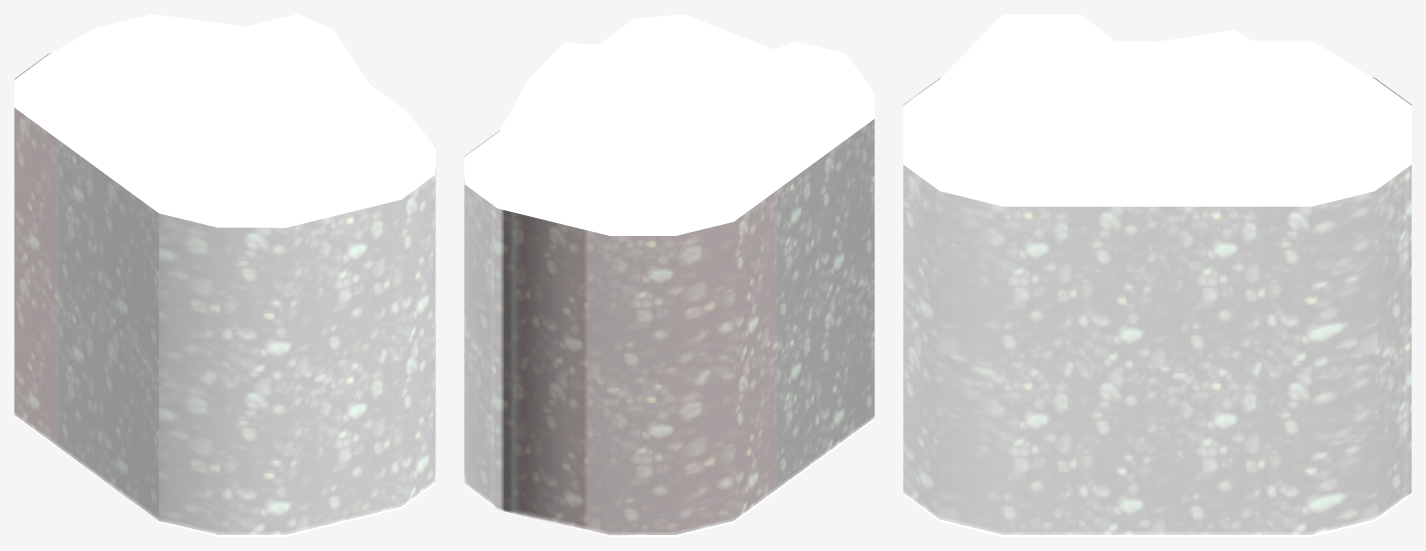
Rendered from SM_Tuna_Gunkan.fbx.
3 views of the same model, side by side, from view 1: azimuth 30°, elevation 25°; view 2: azimuth 150°, elevation 25°; view 3: azimuth 270°, elevation 25° (orthographic). The views are drawn at different scales.
Visible parts, largest first — view 1: SM_Tuna_Gunkan_LOD0; view 2: SM_Tuna_Gunkan_LOD0; view 3: SM_Tuna_Gunkan_LOD0.
Boxes of the visible parts, box(x1,y1,x2,y2) form: SM_Tuna_Gunkan_LOD0: box(14, 14, 435, 536); SM_Tuna_Gunkan_LOD0: box(464, 14, 874, 536); SM_Tuna_Gunkan_LOD0: box(903, 14, 1411, 536).
Bounding box in the file's own units: 3.75 × 5.58 × 4.91.
